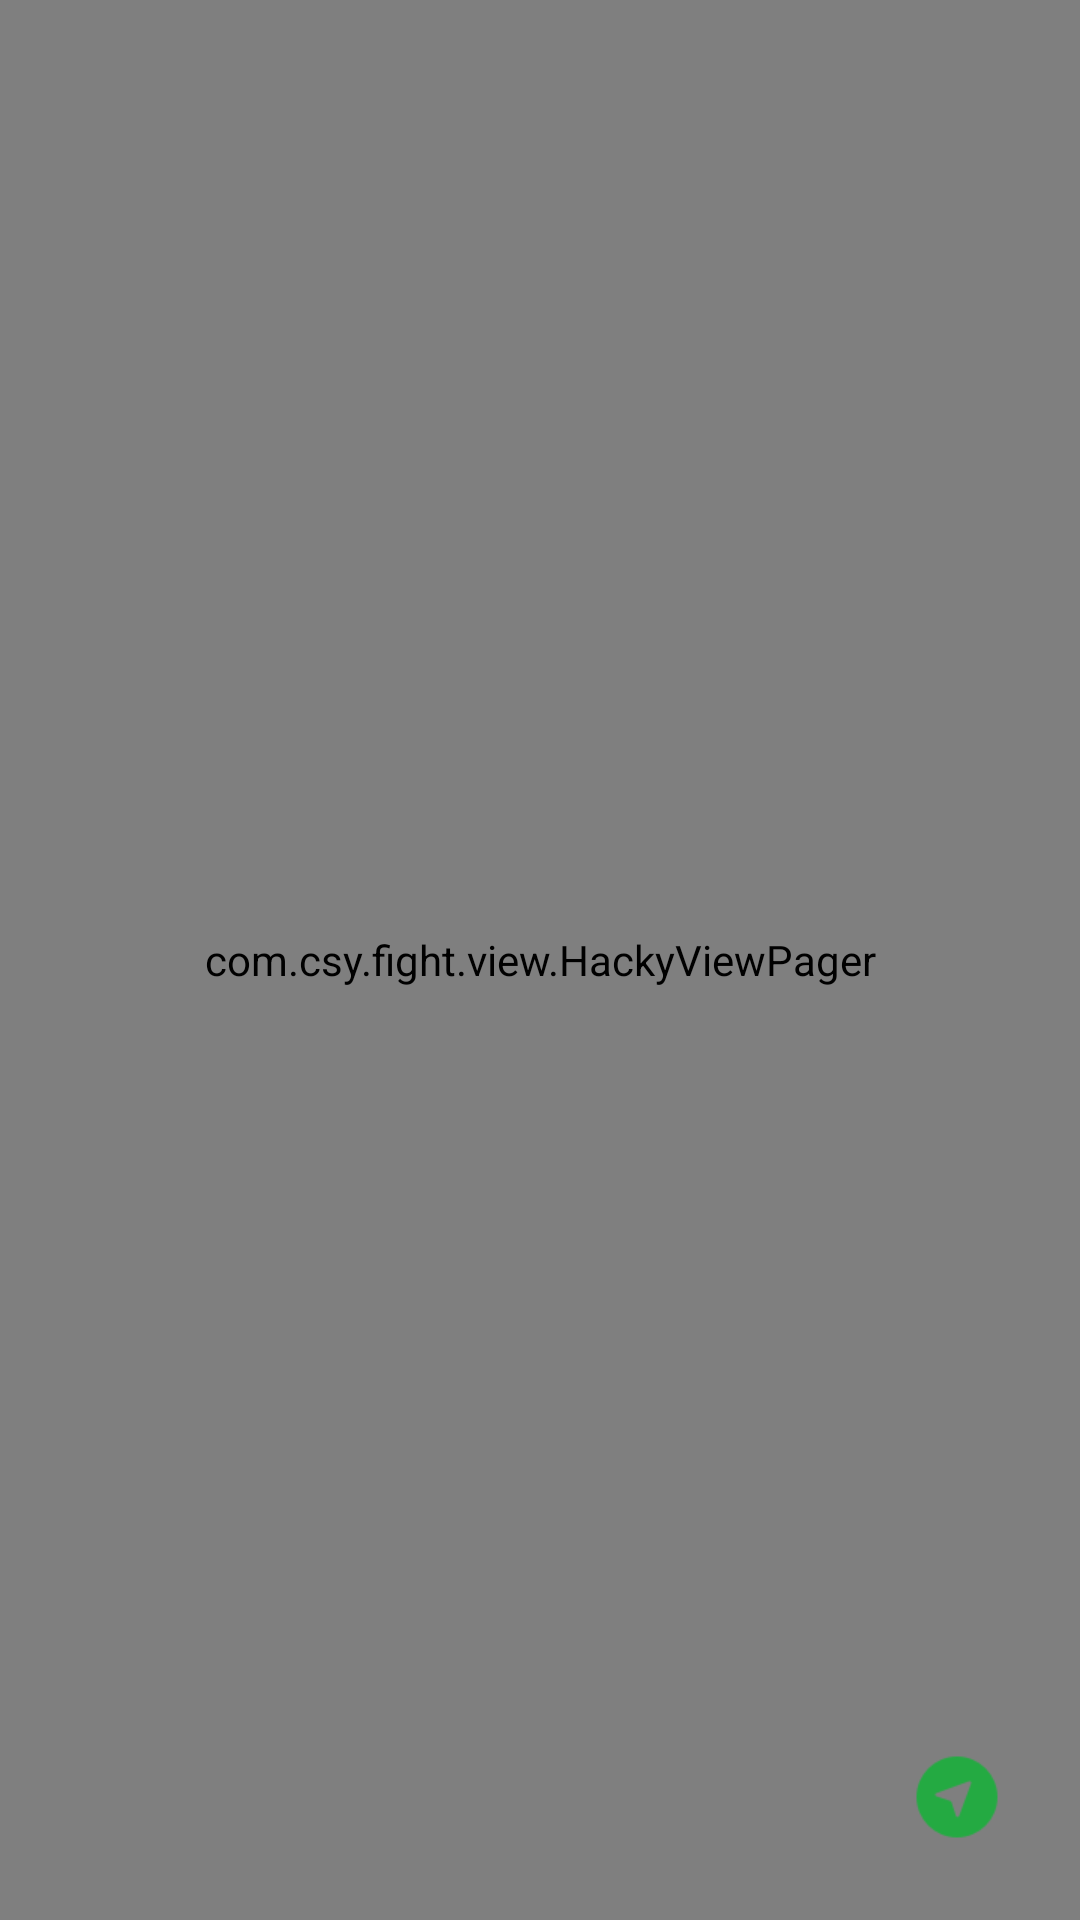

Icon bounding boxes for this 1080x1920 phone screenshot, format (x1, y1, x2, y2):
share photo: (916, 1756, 998, 1838)
